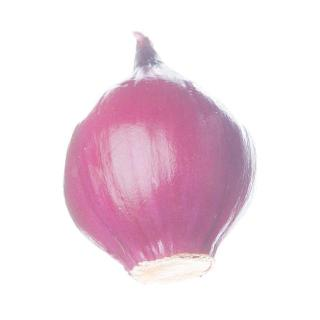Bawang Merah: (59, 27, 260, 287)
